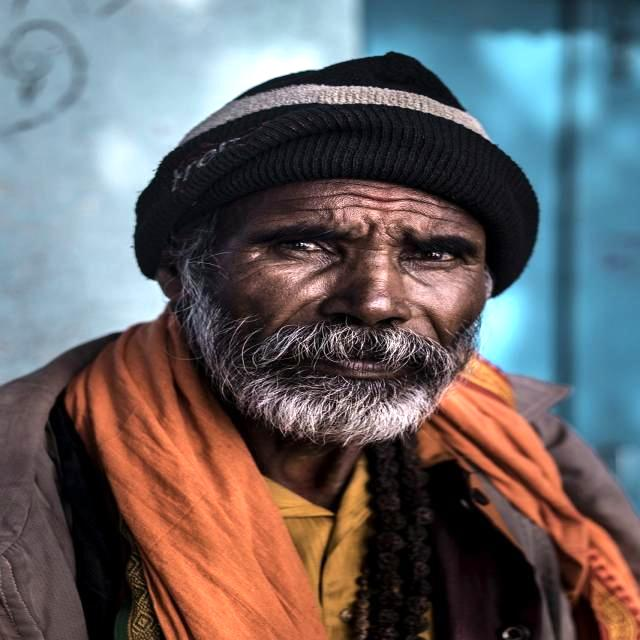no_hard_hat: (134, 52, 538, 296)
person: (3, 180, 639, 640)
